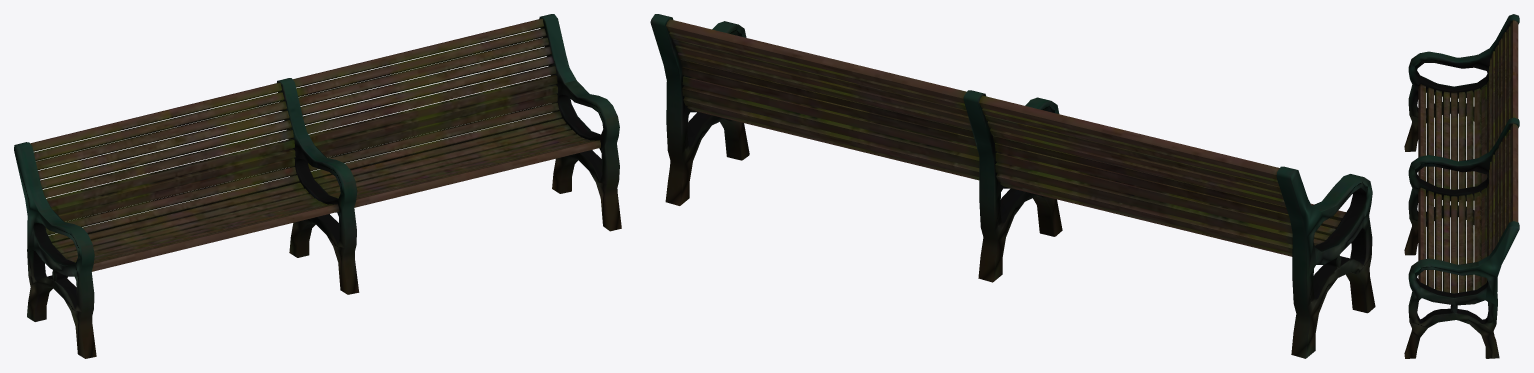
The model's file is p_bench.glb.
The picture shows the model from 3 angles, left to right: view 1: azimuth 30°, elevation 25°; view 2: azimuth 150°, elevation 25°; view 3: azimuth 270°, elevation 25°; orthographic projection. The views are drawn at different scales.
Visible parts, largest first — view 1: Bench; view 2: Bench; view 3: Bench.
Boxes of the visible parts, <box> form: Bench: <box>14,14,621,358</box>; Bench: <box>650,14,1375,358</box>; Bench: <box>1404,14,1519,358</box>.
Bounding box in the file's own units: 205 × 60.11 × 47.01.
2 materials, 2 textured.
